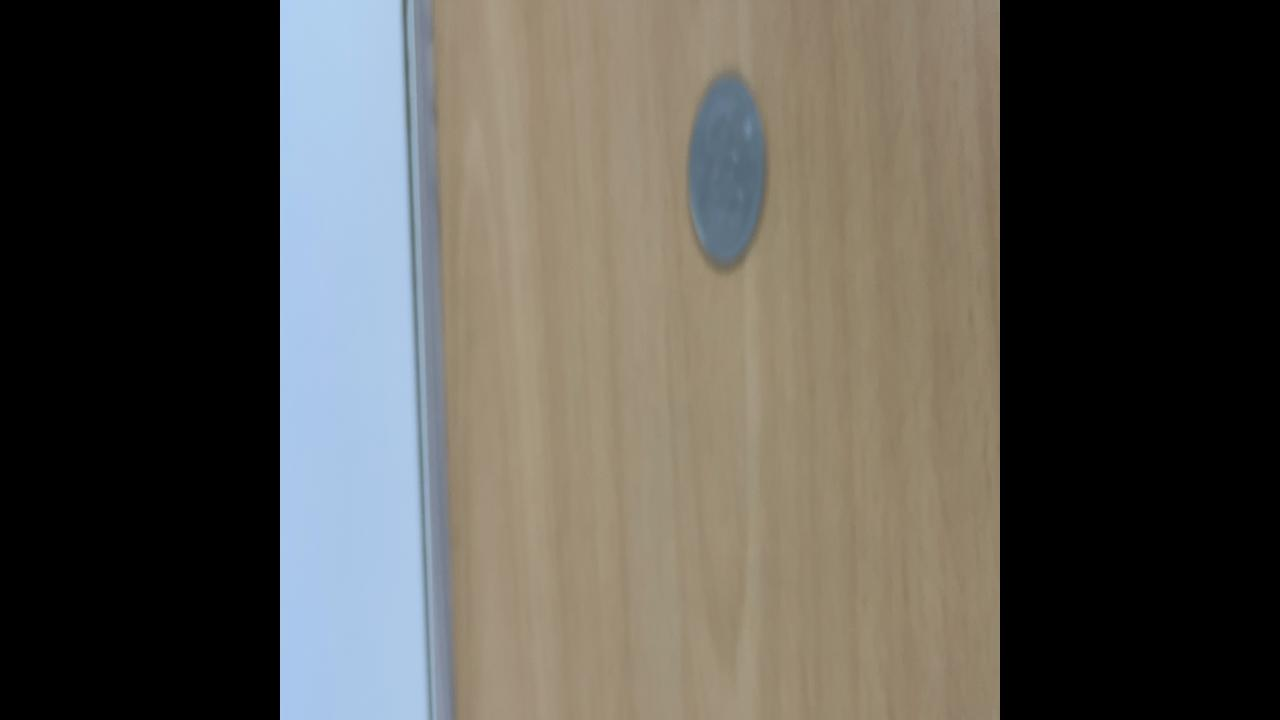coin: (686, 68, 767, 272)
